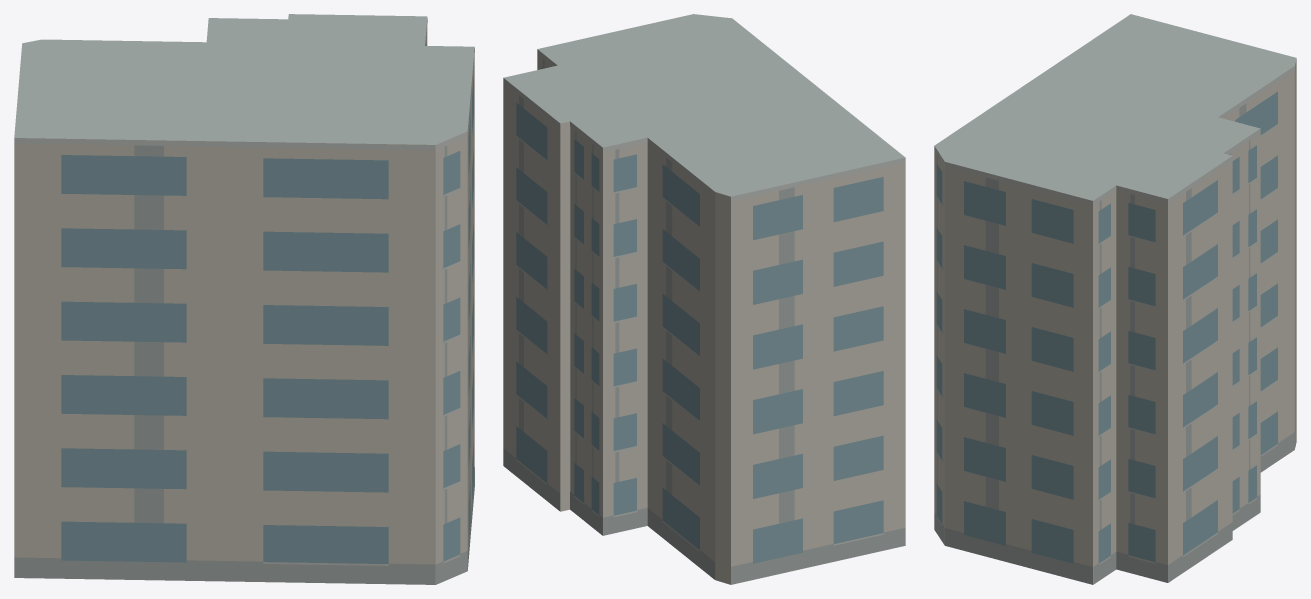
The model's file is survey-upis-32796213.glb.
3 views of the same model, side by side, from view 1: azimuth 30°, elevation 25°; view 2: azimuth 150°, elevation 25°; view 3: azimuth 270°, elevation 25° (orthographic). The views are drawn at different scales.
Parts seen in each view (by area): view 1: survey-upis-32796213.tmp; view 2: survey-upis-32796213.tmp; view 3: survey-upis-32796213.tmp.
Part boxes in pixels (box(x1,y1,x2,y2)): survey-upis-32796213.tmp: box(14, 14, 474, 584); survey-upis-32796213.tmp: box(503, 14, 905, 584); survey-upis-32796213.tmp: box(934, 14, 1296, 584).
Size of the model in its own units: 20.37 by 19.5 by 16.68.
